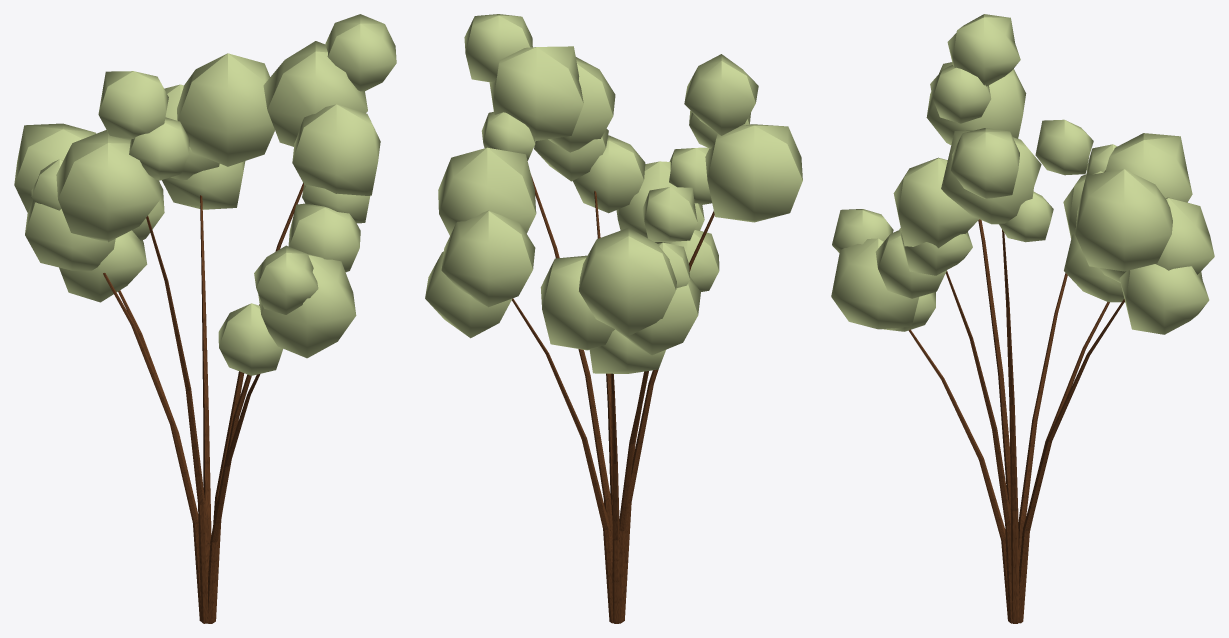
File: dense-temperate-forest-flora-hazel-mature-5dfa8343__28330.glb
3 views of the same model, side by side, from view 1: azimuth 30°, elevation 25°; view 2: azimuth 150°, elevation 25°; view 3: azimuth 270°, elevation 25° (orthographic). The views are drawn at different scales.
Parts seen in each view (by area): view 1: hazel-mature; view 2: hazel-mature; view 3: hazel-mature.
Part boxes in pixels (<box>): hazel-mature: <box>14,14,396,623</box>; hazel-mature: <box>425,14,802,623</box>; hazel-mature: <box>831,14,1214,623</box>.
Bounding box in the file's own units: 4.22 × 6.89 × 4.27.
2 materials, 1 textured.
